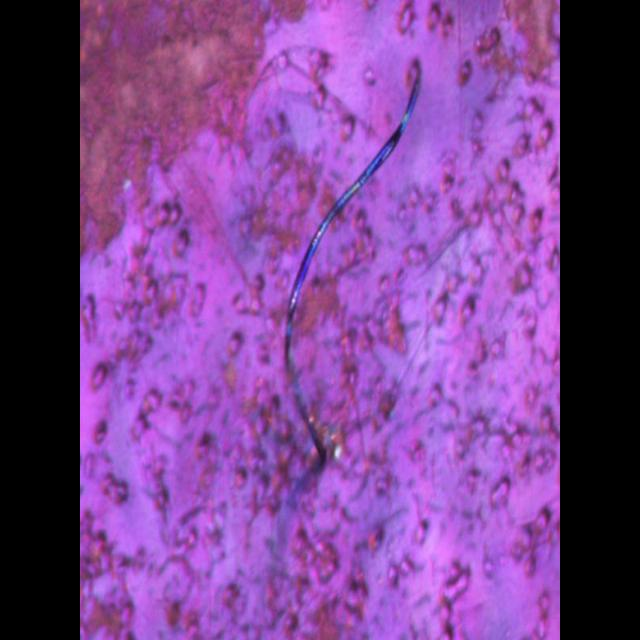Fibre: (254, 49, 432, 487)
